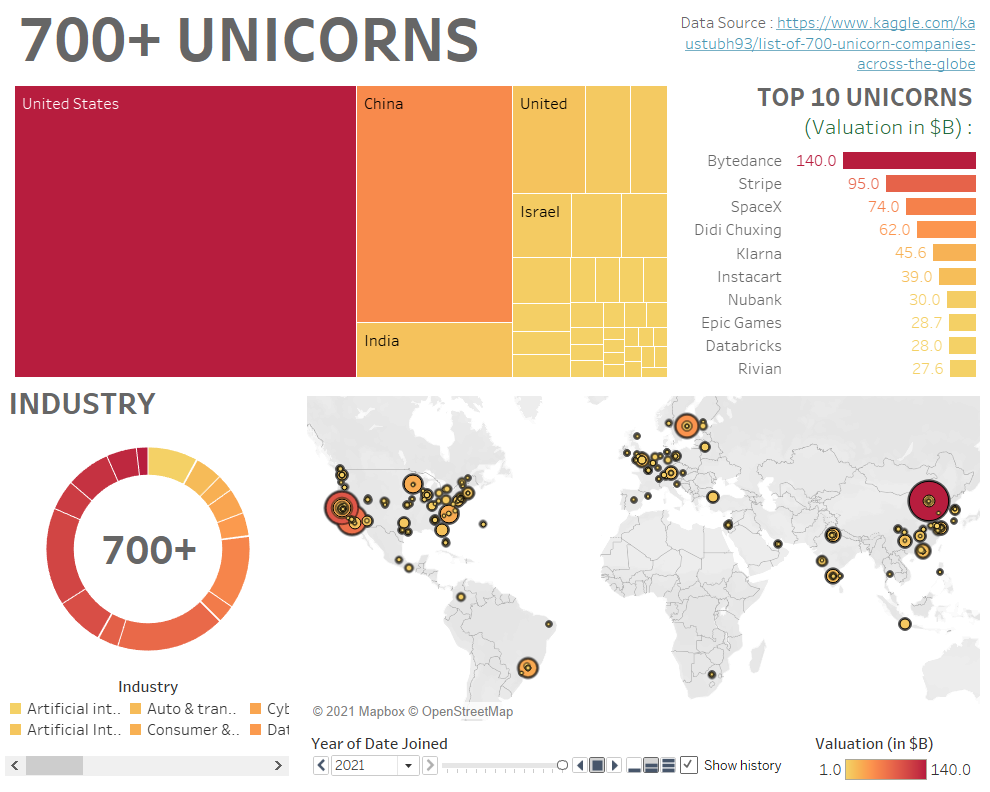

This screenshot's page, from the dashboard's own definition file:
{"tool":"tableau","page":{"name":"Dashboard 2 (2)","canvas":[1000,800],"ordinal":2},"visuals":[{"type":"text","box":[679,13,303,64]},{"type":"text","box":[686,77,297,70]},{"type":"worksheet","title":"Sheet 6","mark":"Automatic","box":[9,79,669,309]},{"type":"worksheet","title":"Bar","mark":"Automatic","rows":["Company name"],"cols":["Valuation (in $B)"],"box":[686,147,297,239]},{"type":"text","box":[4,379,294,49]},{"type":"worksheet","title":"Geo (2)","mark":"Automatic","box":[306,394,681,333]},{"type":"worksheet","title":"Pie","mark":"Pie","rows":["Number of Records","Number of Records"],"box":[4,428,294,246]},{"type":"text","box":[101,533,100,34]},{"type":"legend","title":"Pie","param":"[federated.1mgfax90bq9occ131w8n91l1f9g8].[none:Industry:nk]","box":[4,674,294,108]},{"type":"currpage","title":"Geo (2)","box":[310,731,504,66]},{"type":"legend","title":"Geo (2)","param":"[federated.1mgfax90bq9occ131w8n91l1f9g8].[sum:Valuation (in $B):qk]","box":[814,731,169,66]}]}

Visuals, with their boxes in screenshot pixels (x1, y1, x2, y2), scaled from the page's 1000x800 canvas onto the 990x792 screenshot:
text: (672,13,972,76)
text: (679,76,973,146)
"Sheet 6" worksheet: (9,78,671,384)
"Bar" worksheet: (679,146,973,382)
text: (4,375,295,424)
"Geo (2)" worksheet: (303,390,977,720)
"Pie" worksheet (Pie marks): (4,424,295,667)
text: (100,528,199,561)
"Pie" legend: (4,667,295,774)
"Geo (2)" currpage: (307,724,806,789)
"Geo (2)" legend: (806,724,973,789)
